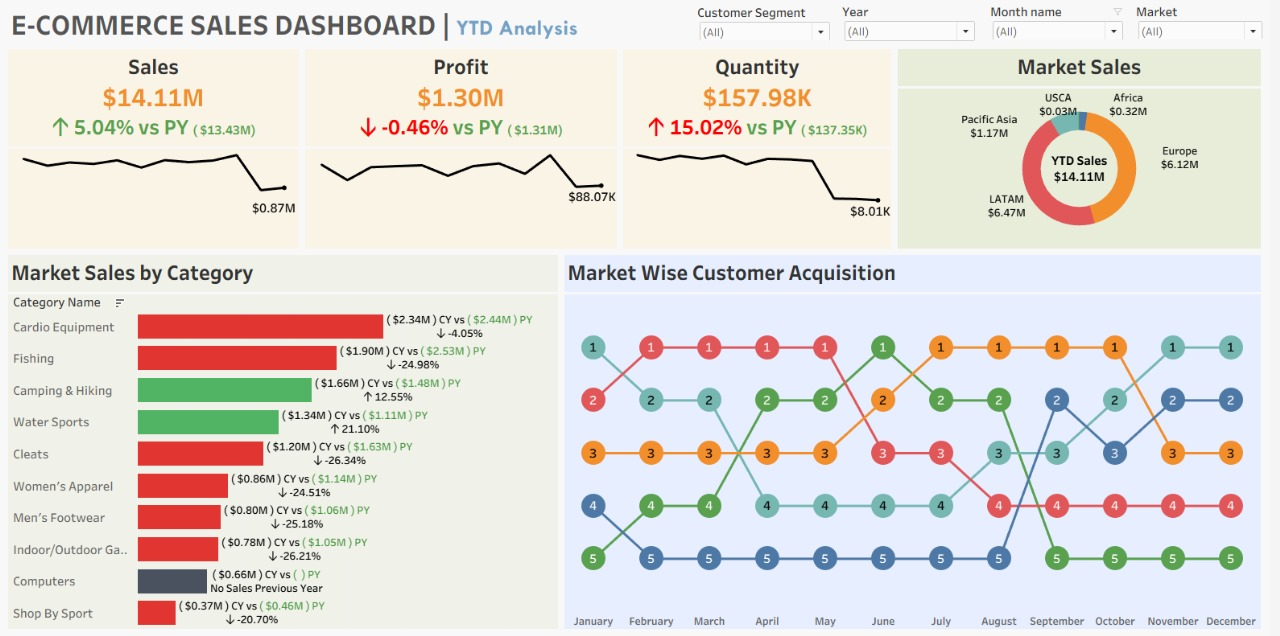

Layout of this report page (visuals, bound fields, positions):
{"tool":"tableau","page":{"name":"Dashboard","canvas":[1580,799],"ordinal":0},"visuals":[{"type":"title","box":[8,8,1564,54]},{"type":"filter","title":"Market Sales by category","param":"[federated.1wre8hp0t27nyw19d0zb518q1o0j].[none:Month name (copy)_631629897574780","box":[1048,9,168,48]},{"type":"filter","title":"Market Sales by category","param":"[federated.1wre8hp0t27nyw19d0zb518q1o0j].[none:Calculation_631629897574305823:nk","box":[1232,9,168,45]},{"type":"filter","title":"Market Sales by category","param":"[federated.1wre8hp0t27nyw19d0zb518q1o0j].[none:Market:nk]","box":[1413,9,160,44]},{"type":"filter","title":"Profit KPI Card","param":"[federated.1wre8hp0t27nyw19d0zb518q1o0j].[none:Customer Segment:nk]","box":[868,10,168,45]},{"type":"worksheet","title":"Sales KPI Card","mark":"Automatic","rows":["Sales"],"cols":["Order Date"],"box":[8,62,369,256]},{"type":"worksheet","title":"Profit KPI Card","mark":"Automatic","rows":["Profit Per Order"],"cols":["Order Date"],"box":[377,62,395,256]},{"type":"worksheet","title":"Quantity KPI Card","mark":"Automatic","rows":["Order Quantity"],"cols":["Order Date"],"box":[772,62,341,256]},{"type":"worksheet","title":"Market Sales","mark":"Pie","cols":["Calculation_631629897511325714","Calculation_631629897511358484"],"box":[1113,62,459,256]},{"type":"worksheet","title":"Market Sales by category","mark":"Automatic","rows":["Category Name"],"cols":["YTD Sales LOD (copy)_631629897511686165"],"box":[8,318,690.9,473]},{"type":"worksheet","title":"Market Wise Customer Acquisition ","mark":"Automatic","cols":["Order Date"],"box":[698.9,318,873.1,473]}]}

Visuals, with their boxes in screenshot pixels (x1, y1, x2, y2), scaled from the page's 1580x799 canvas onto the 1280x636 screenshot:
title: 6 6 1274 49
"Market Sales by category" filter: 849 7 985 45
"Market Sales by category" filter: 998 7 1134 43
"Market Sales by category" filter: 1145 7 1274 42
"Profit KPI Card" filter: 703 8 839 44
"Sales KPI Card" worksheet: 6 49 305 253
"Profit KPI Card" worksheet: 305 49 625 253
"Quantity KPI Card" worksheet: 625 49 902 253
"Market Sales" worksheet (Pie marks): 902 49 1274 253
"Market Sales by category" worksheet: 6 253 566 630
"Market Wise Customer Acquisition " worksheet: 566 253 1274 630
